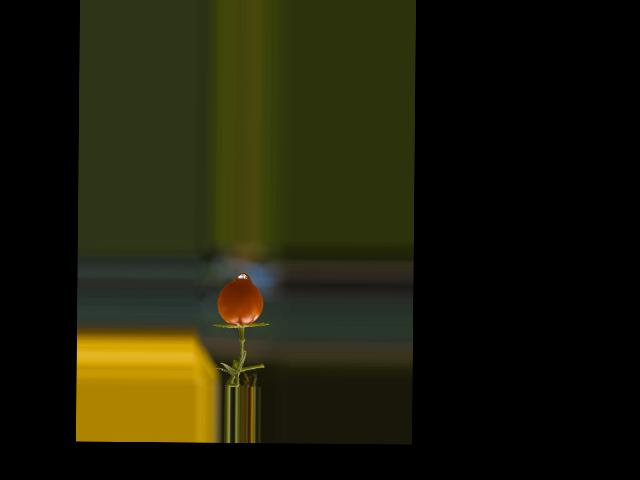tomato: (217, 280, 264, 325)
